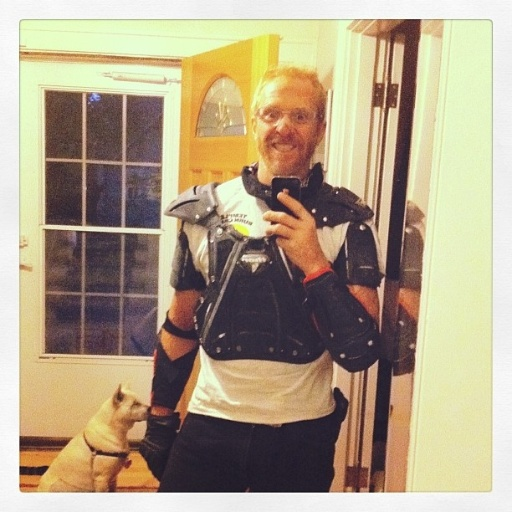hand: (260, 201, 335, 268), (133, 422, 178, 483)
